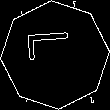L_E: (29, 38, 81, 72)
